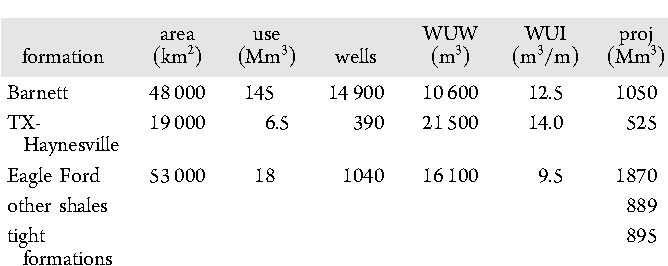fracking table: (1, 20, 668, 266)
